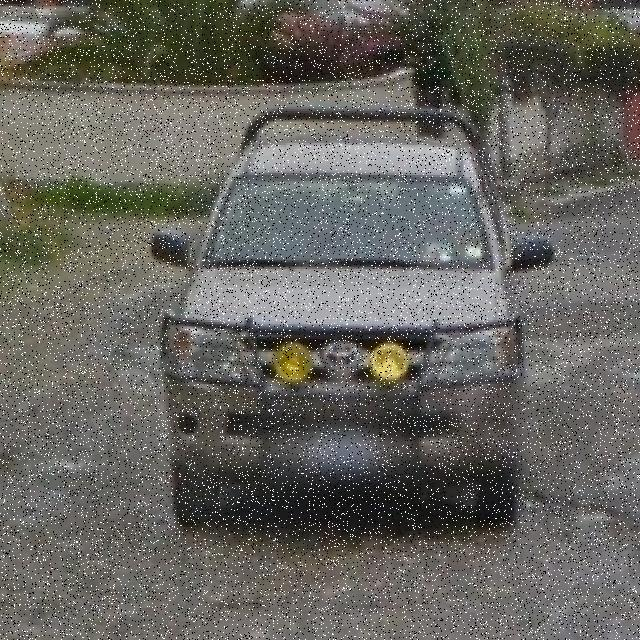cars: (169, 133, 531, 522)
